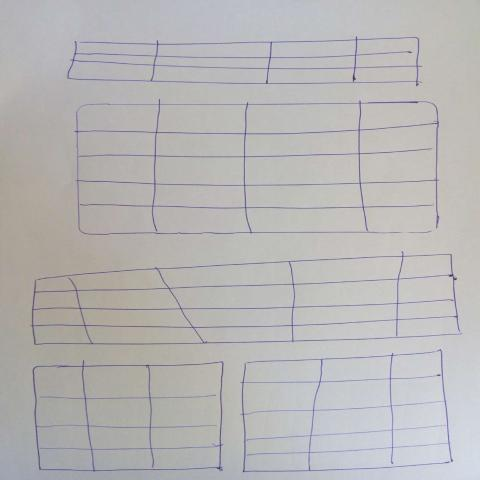Table: (75, 100, 440, 236), (30, 252, 464, 346), (241, 350, 454, 473), (33, 361, 224, 473), (68, 37, 423, 87)
